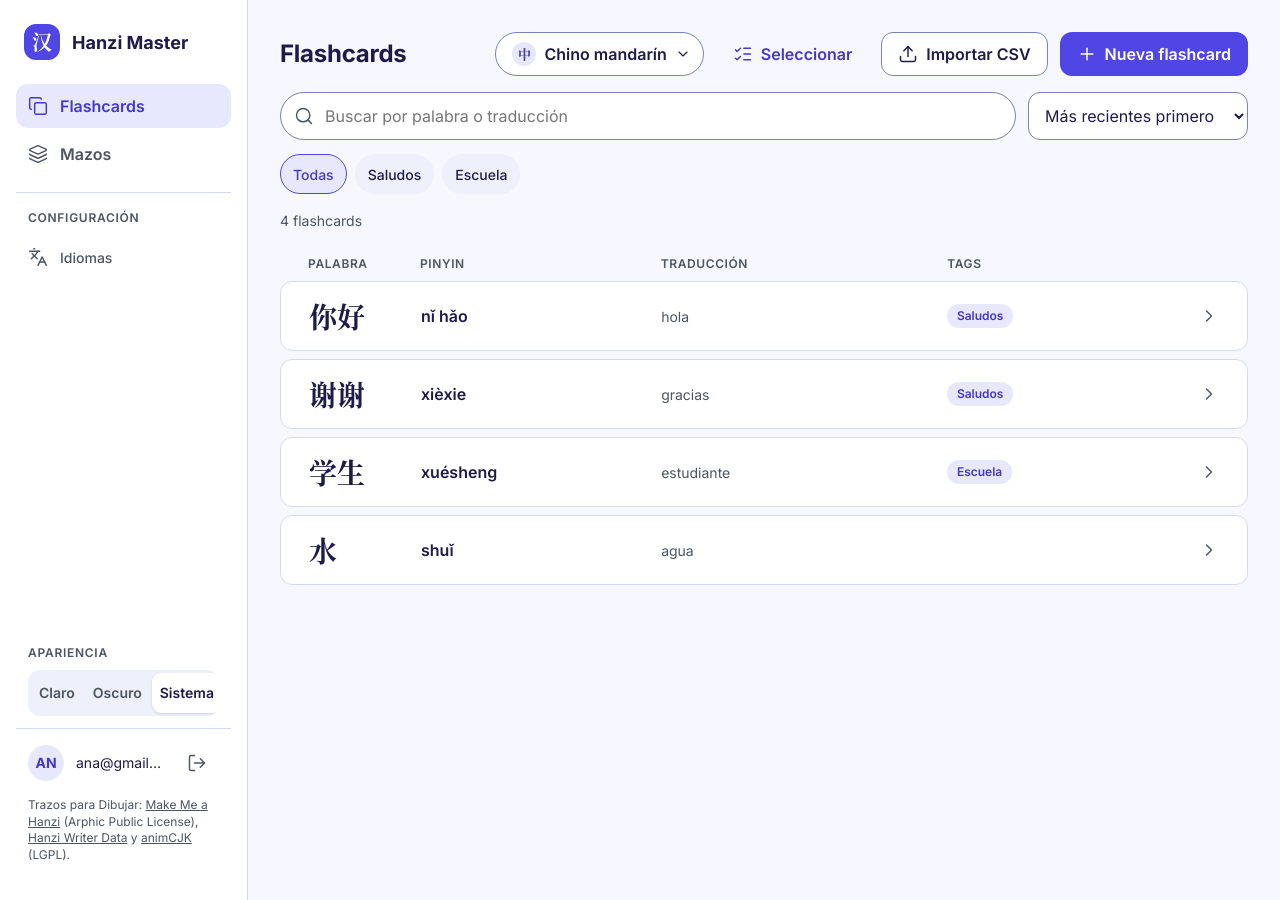
Scenario: F01 · Listado de flashcards › F01-5 una búsqueda sin coincidencias muestra "Sin resultados" con acción para limpiar
Check: the heading "Flashcards" is shown, box [280,39,407,68]
Type "xyz" into the search field named "Buscar flashcards" at (648, 116), box [280,92,1016,140]
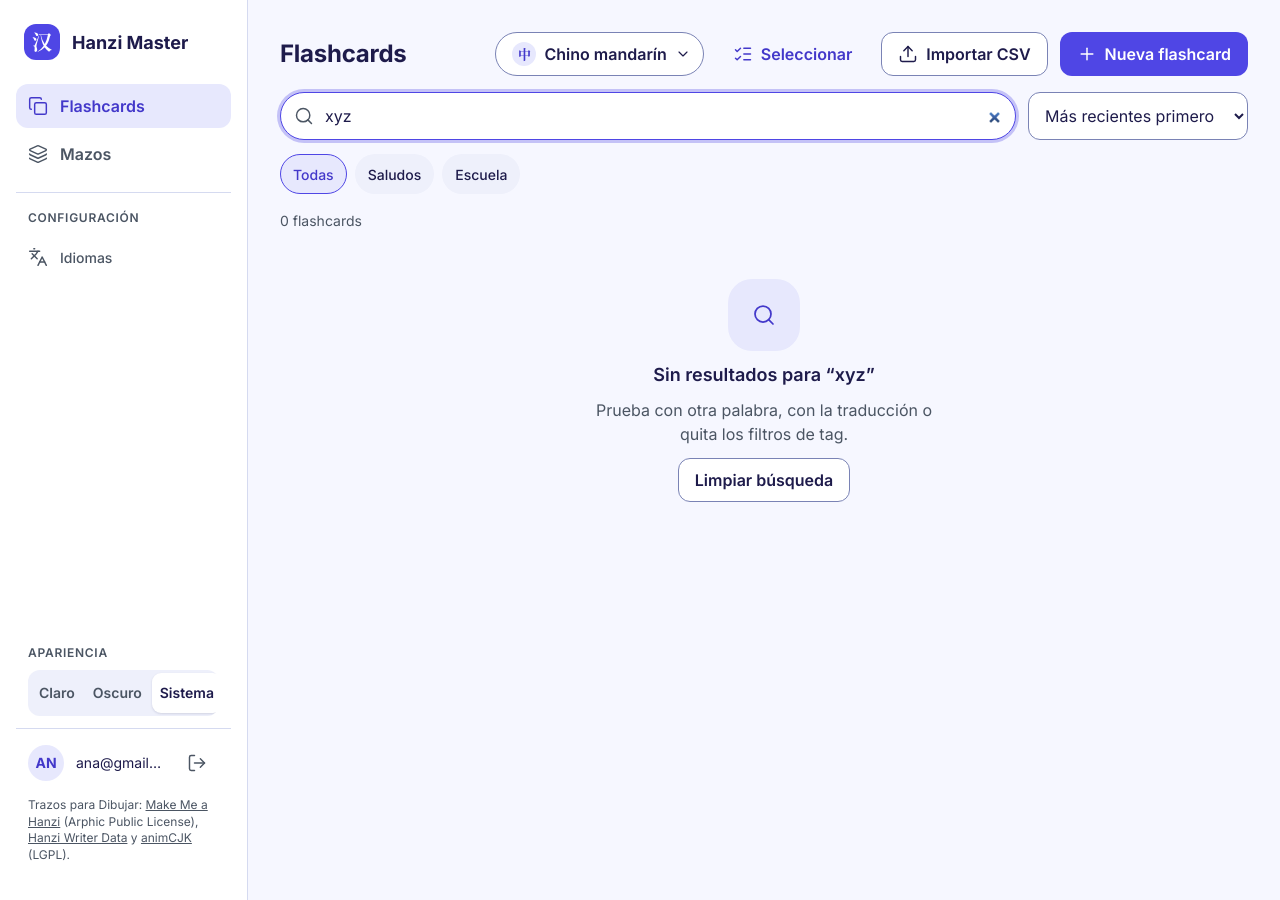
Check: the heading "Sin resultados para “xyz”" is shown, box [653,363,875,386]
Click the button "Limpiar búsqueda" at (764, 480), box [678,458,850,502]
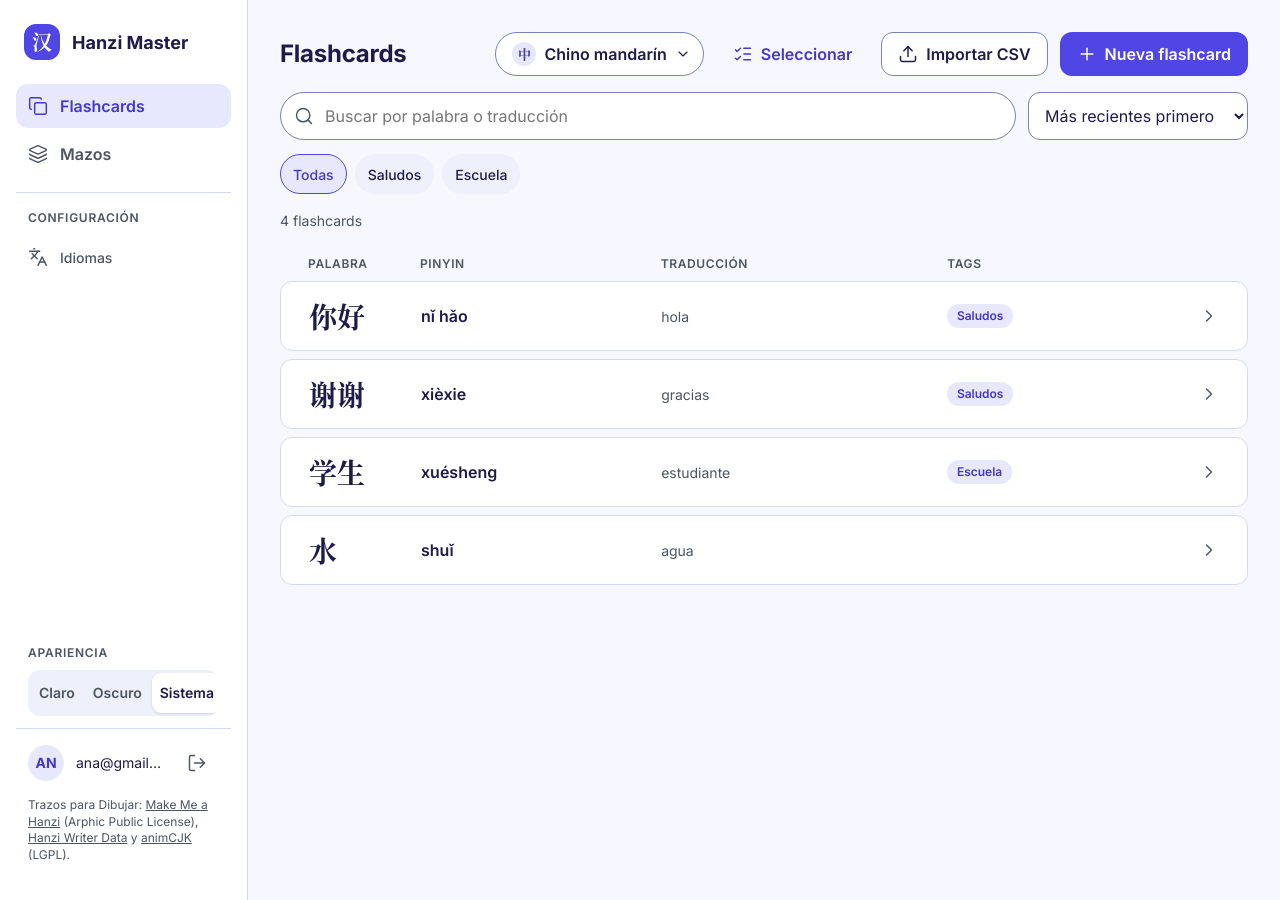
Check: the text "4 flashcards" is shown, box [280,212,362,229]
Check: the search field named "Buscar flashcards" is empty, box [280,92,1016,140]
